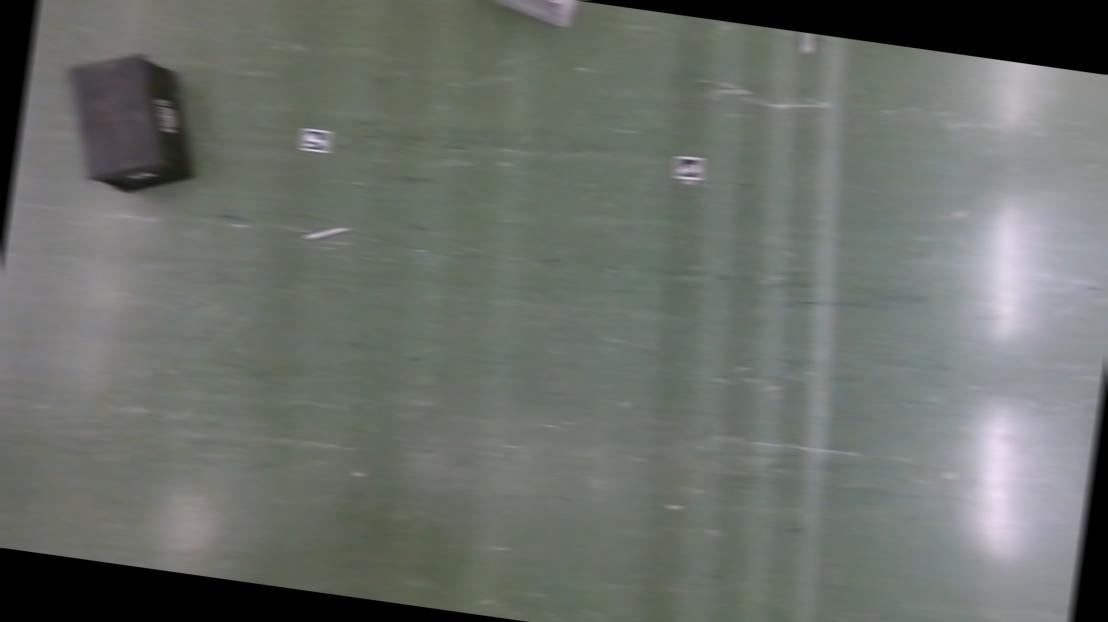probes: (304, 223, 346, 244), (797, 31, 815, 56)
rako: (53, 47, 209, 203), (479, 0, 588, 31)
